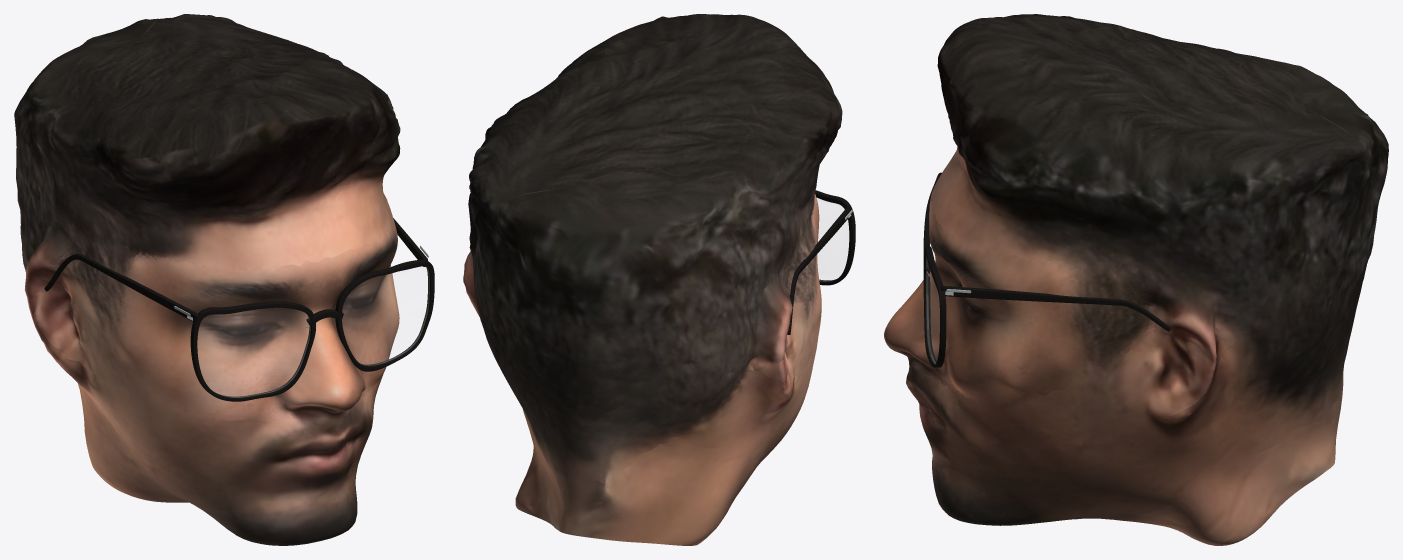
3 renders of one model, left to right at view 1: azimuth 30°, elevation 25°; view 2: azimuth 150°, elevation 25°; view 3: azimuth 270°, elevation 25°, orthographic. The views are drawn at different scales.
Visible parts, largest first — view 1: world, Eyeglass rim 1, Eyeglass rim 2, Eyeglass temple 1; view 2: world, Eyeglass rim 1, Eyeglass temple 1; view 3: world, Eyeglass temple 2, Eyeglass rim 2.
Boxes of the visible parts, x1,y1,x2,y2 form: world: [14, 14, 400, 545]; Eyeglass rim 1: [190, 301, 315, 401]; Eyeglass rim 2: [335, 259, 434, 371]; Eyeglass temple 1: [44, 254, 197, 321]; world: [463, 14, 842, 545]; Eyeglass rim 1: [815, 190, 855, 285]; Eyeglass temple 1: [787, 207, 851, 334]; world: [884, 14, 1388, 545]; Eyeglass temple 2: [941, 286, 1171, 331]; Eyeglass rim 2: [923, 246, 946, 367].
Bounding box in the file's own units: 0.2263 × 0.3064 × 0.2949.
Materials: 7 (1 with a texture image).
